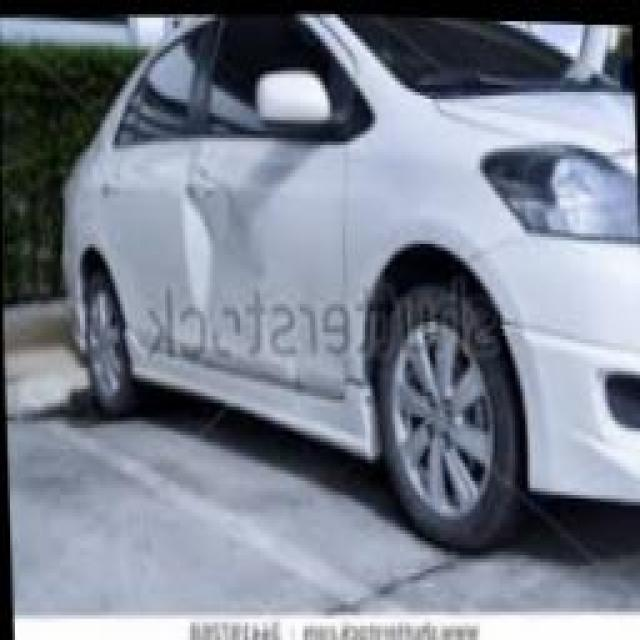Door: (168, 135, 359, 402)
